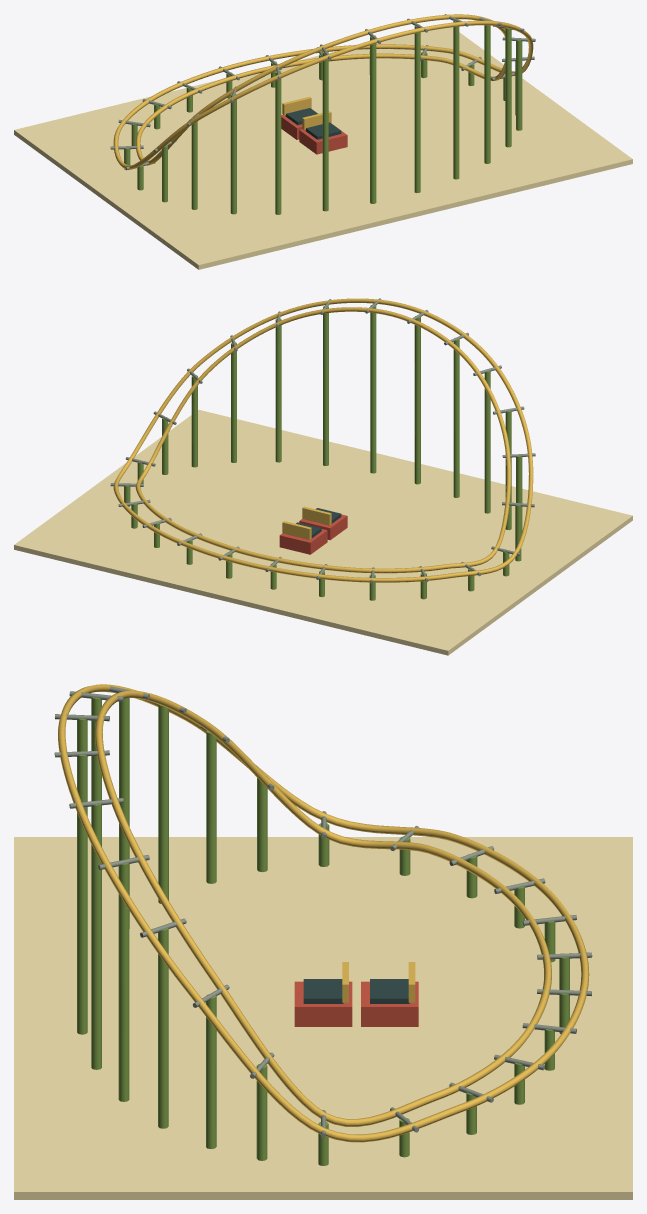
The model's file is mini-coaster.glb.
3 renders of one model, top to bottom at view 1: azimuth 30°, elevation 25°; view 2: azimuth 150°, elevation 25°; view 3: azimuth 270°, elevation 25°, orthographic. The views are drawn at different scales.
Visible parts, largest first — view 1: Park_mini-coaster, CoasterTrain; view 2: Park_mini-coaster, CoasterTrain; view 3: Park_mini-coaster, CoasterTrain.
Part boxes in pixels (<box>): Park_mini-coaster: <box>14,14,632,269</box>; CoasterTrain: <box>281,96,347,154</box>; Park_mini-coaster: <box>14,298,632,655</box>; CoasterTrain: <box>279,506,347,554</box>; Park_mini-coaster: <box>14,684,632,1199</box>; CoasterTrain: <box>294,962,418,1026</box>.
Bounding box in the file's own units: 19 × 7.29 × 14.
